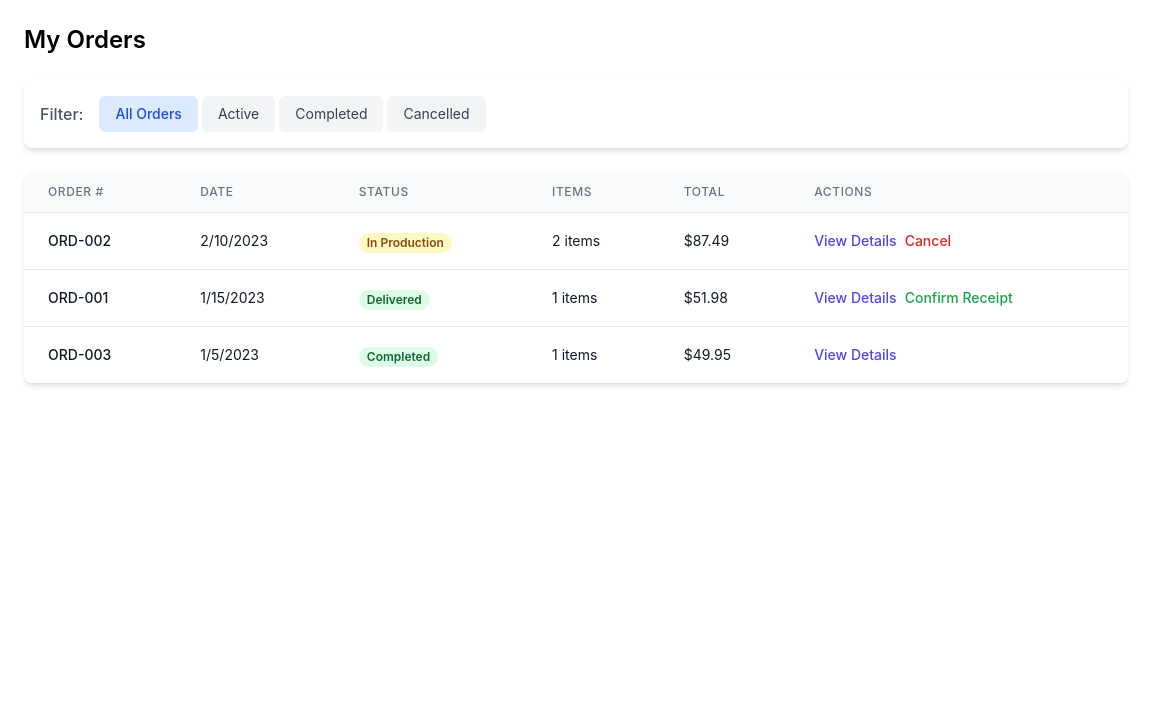
Test: OrdersList Component › shows order details when clicking "View Details"
expect the text "ORD-001" is shown: met, box [48,289,108,306]
// Click "View Details" for the first order with status "Delivered"
Click the button "View Details" in the row of "ORD-001" at (855, 298), box [814,288,897,308]
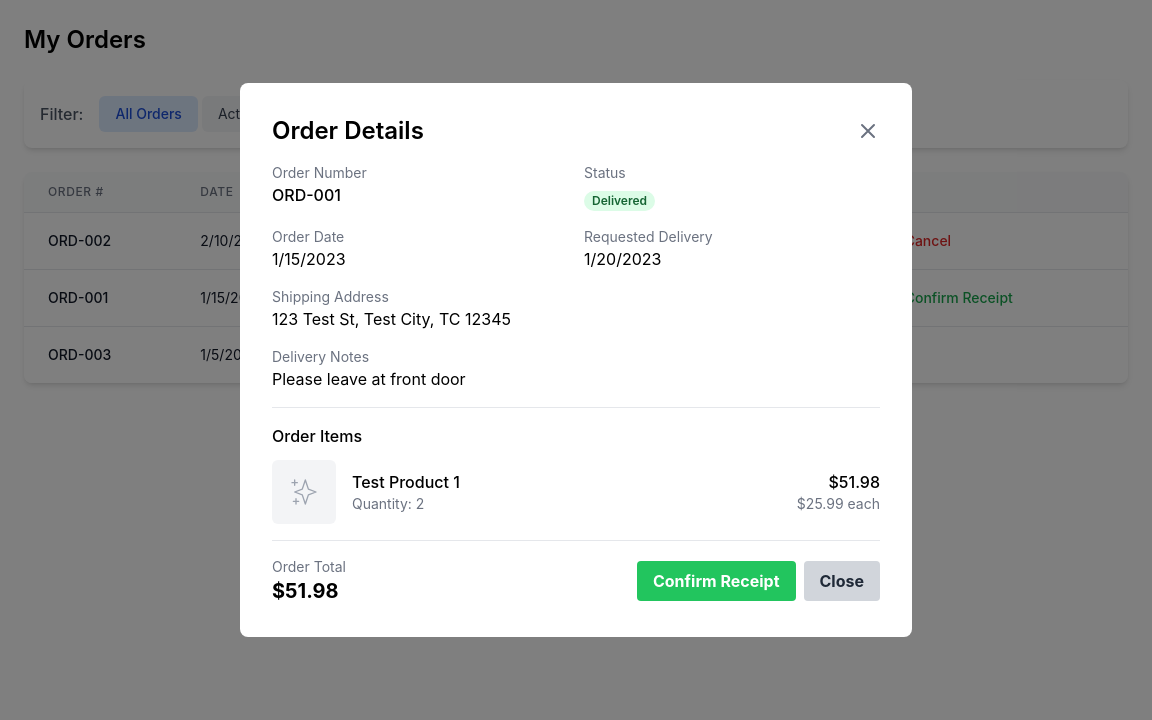
expect the heading "Order Details" is shown: met, box [272,115,424,147]
expect the text "Test Product 1" is shown: met, box [352,470,460,494]
expect the text "Please leave at front door" is shown: met, box [272,369,466,389]
